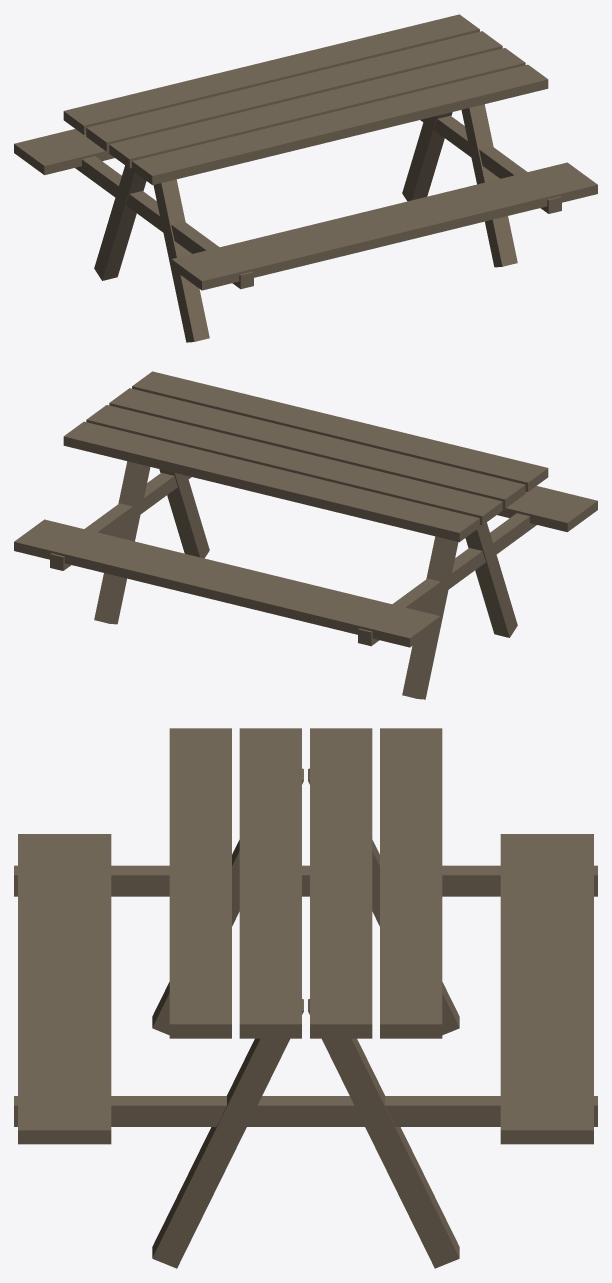
File: street.furniture.picnic_table_b.glb
3 renders of one model, top to bottom at view 1: azimuth 30°, elevation 25°; view 2: azimuth 150°, elevation 25°; view 3: azimuth 270°, elevation 25°, orthographic. The views are drawn at different scales.
Parts seen in each view (by area): view 1: main__galv_765, main__glaze_765, main__concrete_765; view 2: main__galv_765, main__glaze_765, main__concrete_765; view 3: main__galv_765, main__glaze_765, main__concrete_765.
Boxes of the visible parts, x1,y1,x2,y2 form: main__galv_765: (14,14,597,290); main__glaze_765: (94,104,517,342); main__concrete_765: (75,115,561,289); main__galv_765: (14,371,597,647); main__glaze_765: (94,461,517,699); main__concrete_765: (50,472,536,646); main__galv_765: (18,728,593,1144); main__glaze_765: (152,768,459,1268); main__concrete_765: (14,865,597,1126).
Bounding box in the file's own units: 1.8 × 0.7695 × 1.5.
